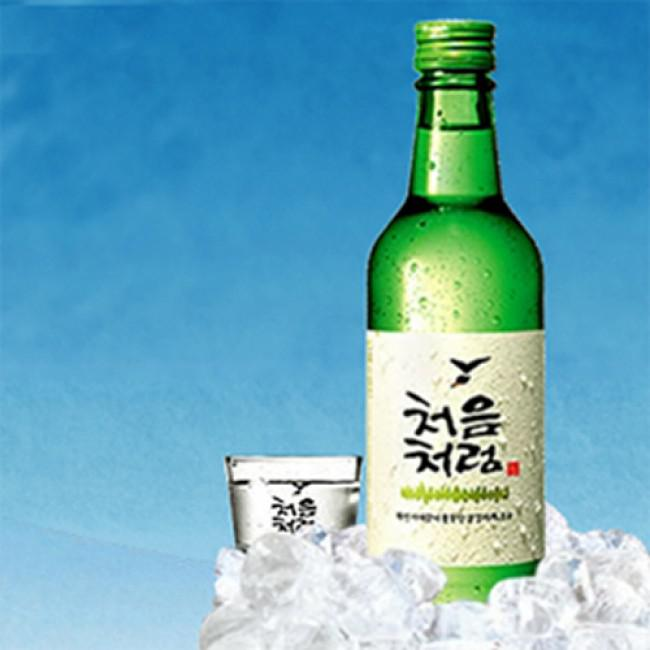soju: (361, 15, 550, 604)
